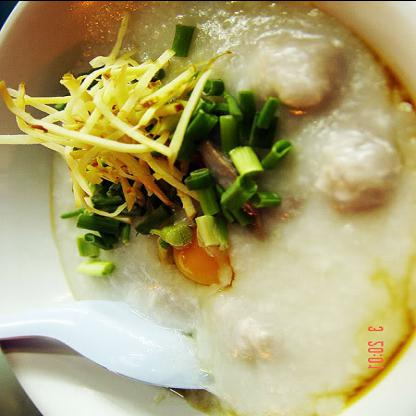Joke: (8, 0, 412, 404)
